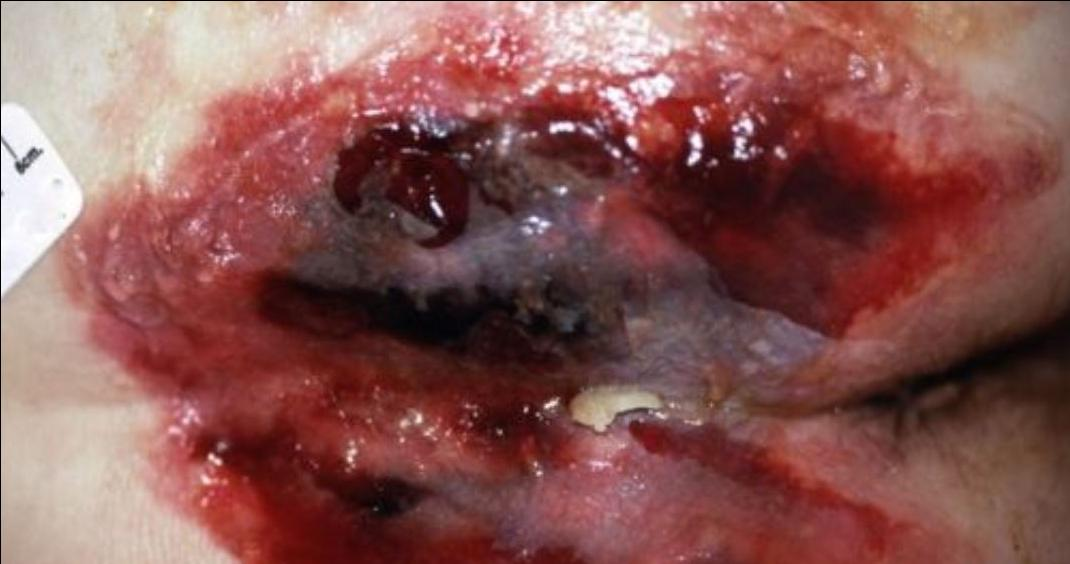Stage4: (118, 14, 1062, 564)
